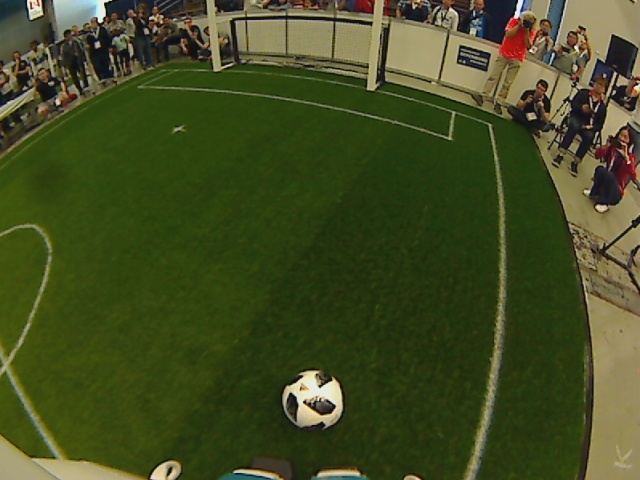ball: (279, 369, 346, 432)
